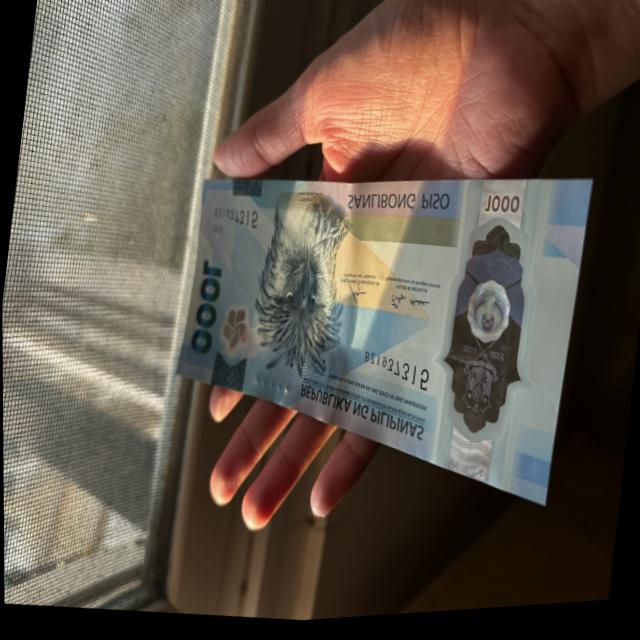clear_window: (435, 200, 551, 459)
eagle: (249, 198, 347, 389)
sampaguita: (216, 305, 250, 359)
